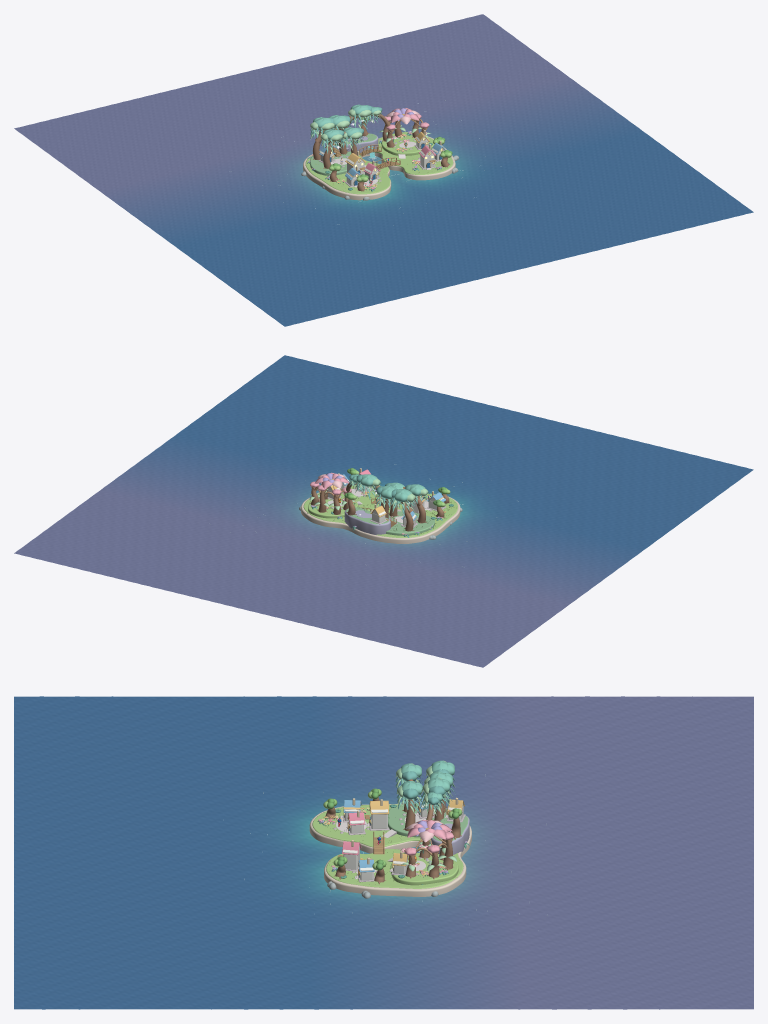
Rendered from whole-island.glb.
3 renders of one model, top to bottom at view 1: azimuth 30°, elevation 25°; view 2: azimuth 150°, elevation 25°; view 3: azimuth 270°, elevation 25°, orthographic. The views are drawn at different scales.
Visible parts, largest first — view 1: Ocean / tide and reflected sky, Island / soft grassy cap, Island / continuous organic earthen coast; view 2: Ocean / tide and reflected sky, Island / soft grassy cap, Island / continuous organic earthen coast, Island / spring limestone foundation, Grove / rounded living terrace; view 3: Ocean / tide and reflected sky, Island / soft grassy cap, Island / continuous organic earthen coast, Garden / rounded flower terrace, Grove / rounded living terrace.
Boxes of the visible parts, <box> form: Ocean / tide and reflected sky: <box>14,14,753,326</box>; Island / soft grassy cap: <box>305,137,453,194</box>; Island / continuous organic earthen coast: <box>303,136,455,200</box>; Ocean / tide and reflected sky: <box>14,355,753,667</box>; Island / soft grassy cap: <box>303,485,457,537</box>; Island / continuous organic earthen coast: <box>301,481,460,543</box>; Island / spring limestone foundation: <box>344,509,390,534</box>; Grove / rounded living terrace: <box>386,511,434,535</box>; Ocean / tide and reflected sky: <box>14,696,753,1009</box>; Island / soft grassy cap: <box>312,804,463,888</box>; Island / continuous organic earthen coast: <box>309,803,471,896</box>; Garden / rounded flower terrace: <box>390,852,458,885</box>; Grove / rounded living terrace: <box>388,803,447,837</box>.
Size of the model in its own units: 80 by 9.49 by 80.
Materials: 53 (1 with a texture image).
